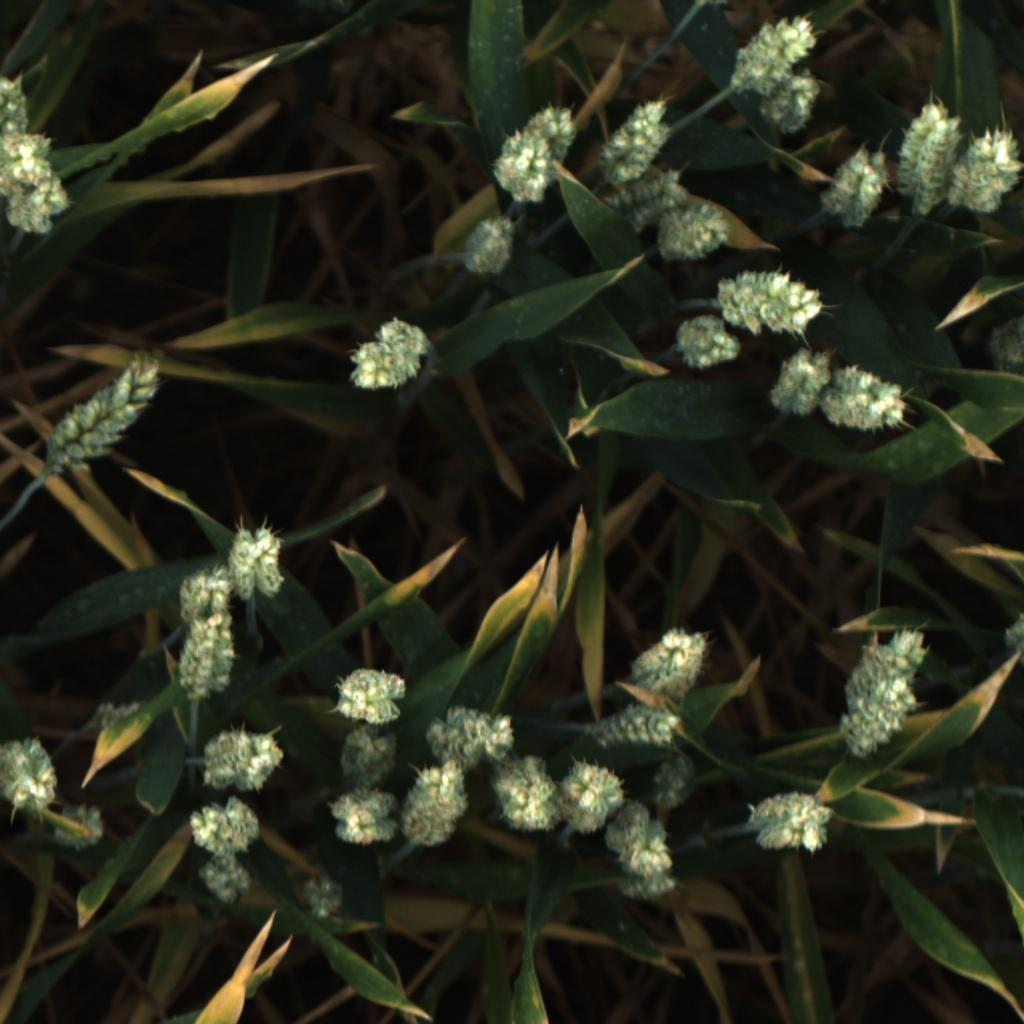0-0: (45, 357, 165, 478), (596, 795, 682, 908), (889, 97, 964, 220), (720, 10, 823, 99), (716, 267, 829, 340), (835, 679, 925, 765), (344, 314, 435, 397), (596, 90, 681, 176), (404, 756, 476, 857), (810, 144, 893, 229), (947, 125, 1024, 216), (489, 751, 568, 839), (171, 611, 247, 701), (848, 615, 938, 691), (815, 366, 910, 438), (744, 789, 835, 862), (593, 169, 691, 236), (626, 625, 714, 698), (647, 199, 740, 266), (220, 523, 293, 606), (198, 725, 284, 795), (761, 343, 837, 420), (555, 754, 625, 837), (327, 777, 406, 850), (428, 705, 519, 766), (183, 791, 265, 858), (602, 115, 676, 188), (581, 701, 690, 750), (670, 308, 746, 378), (0, 734, 63, 818), (452, 206, 522, 281), (755, 66, 828, 137), (6, 174, 76, 248), (490, 126, 554, 206), (330, 660, 408, 725), (189, 844, 256, 915), (521, 91, 584, 164), (640, 747, 707, 814), (169, 561, 238, 623), (331, 721, 404, 776), (291, 861, 350, 928), (0, 129, 66, 188), (77, 697, 152, 740), (50, 801, 109, 853), (986, 314, 1024, 391), (0, 69, 37, 130), (997, 601, 1024, 671)
